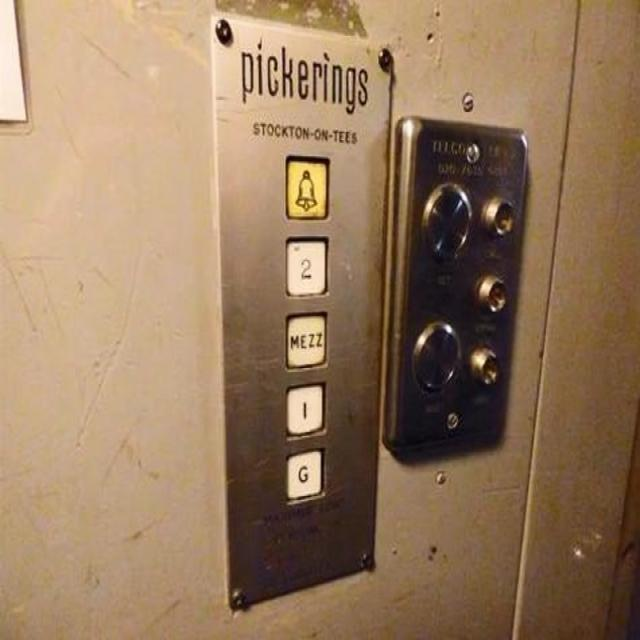1: (283, 376, 327, 439)
2: (284, 233, 329, 296)
G: (280, 446, 326, 506)
alarm: (281, 151, 332, 221)
empty: (409, 318, 462, 394), (421, 180, 471, 260)
indicator: (481, 191, 516, 240), (475, 268, 510, 317), (466, 340, 501, 389)
text_MEZZ: (282, 308, 328, 368)
